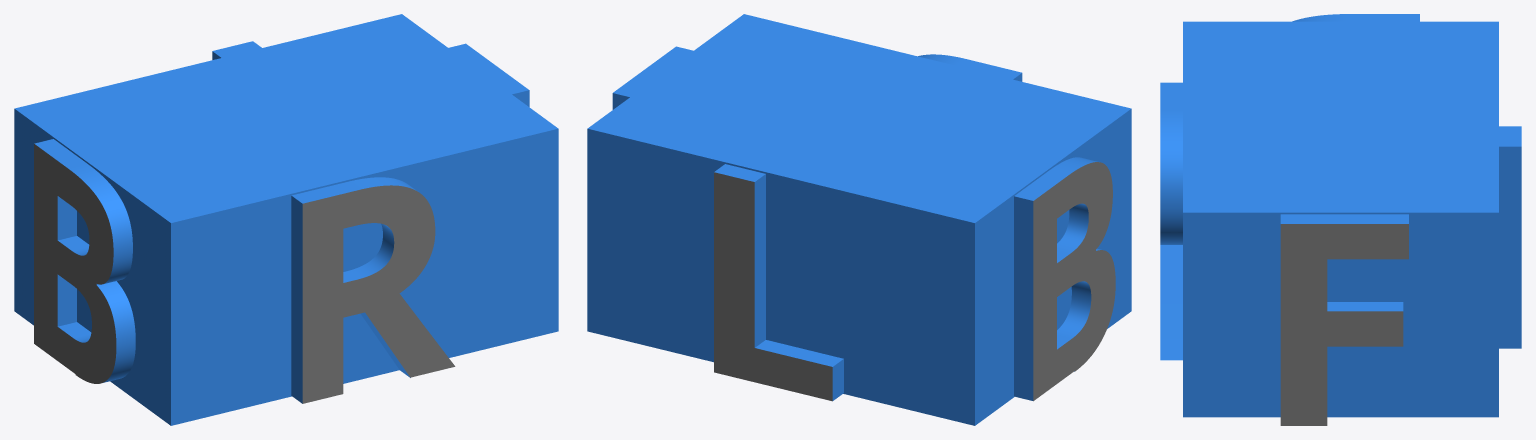
File: Chassis.dae
The picture shows the model from 3 angles, left to right: view 1: azimuth 30°, elevation 25°; view 2: azimuth 150°, elevation 25°; view 3: azimuth 270°, elevation 25°; orthographic projection.
Parts seen in each view (by area): view 1: Chassis; view 2: Chassis; view 3: Chassis.
Boxes of the visible parts, box(x1,y1,x2,y2) form: Chassis: box(14, 14, 558, 425); Chassis: box(587, 14, 1131, 425); Chassis: box(1160, 14, 1521, 425).
Bounding box in the file's own units: 0.55 × 0.4 × 0.25.
